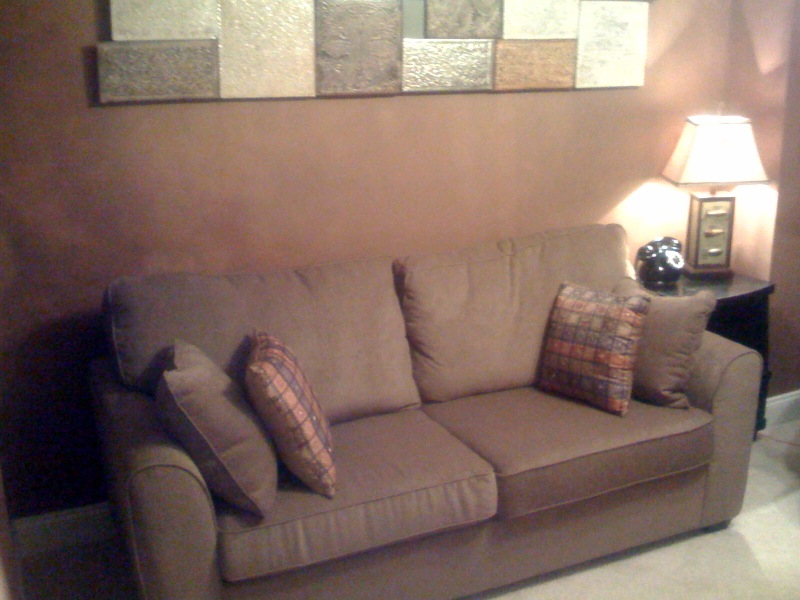sofa: (87, 216, 774, 600)
